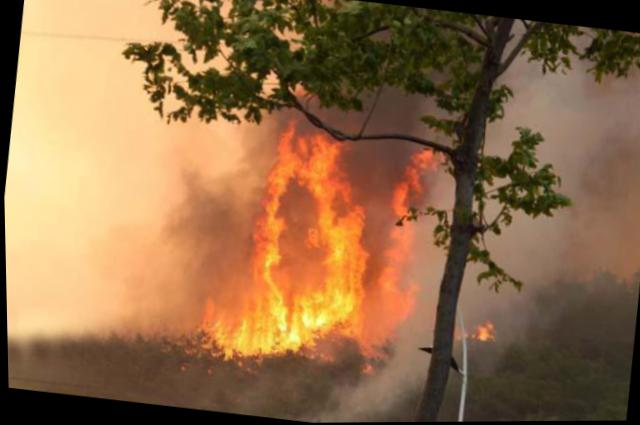fire: (313, 203, 374, 330), (243, 261, 323, 357), (358, 278, 419, 351), (252, 172, 288, 274), (303, 135, 349, 205), (202, 297, 249, 355), (272, 121, 311, 176), (407, 145, 435, 207), (384, 223, 412, 275), (389, 181, 416, 215), (302, 226, 325, 250), (478, 319, 499, 342)
